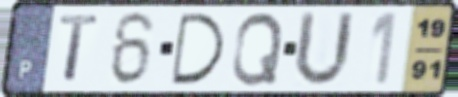1: (366, 9, 399, 89)
6: (108, 10, 157, 88)
D: (169, 11, 228, 87)
Q: (229, 10, 286, 88)
T: (58, 13, 102, 85)
U: (290, 8, 357, 90)
